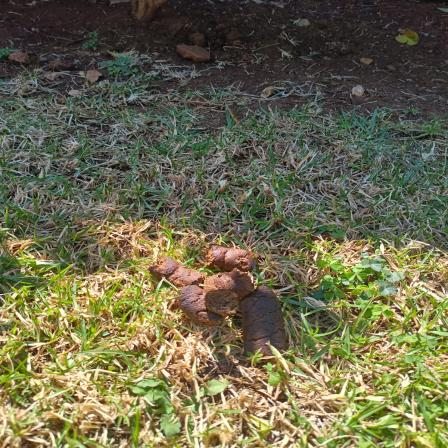dog-poop: (146, 239, 320, 364)
